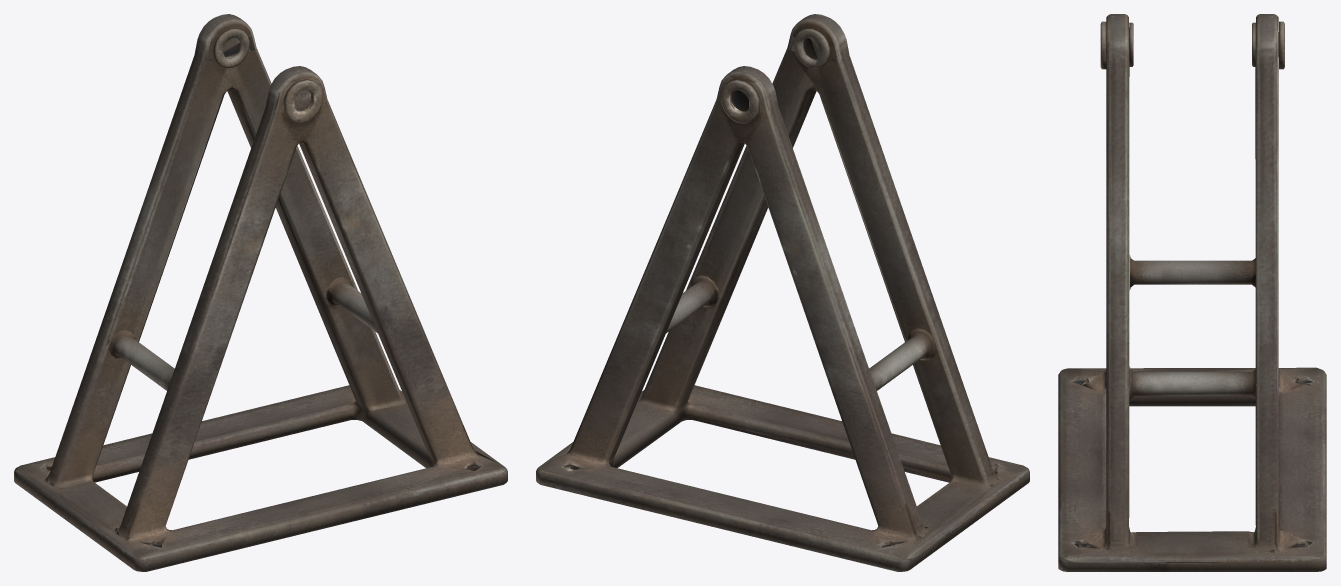
File: pump_base.glb
The picture shows the model from 3 angles, left to right: view 1: azimuth 30°, elevation 25°; view 2: azimuth 150°, elevation 25°; view 3: azimuth 270°, elevation 25°; orthographic projection. The views are drawn at different scales.
Size of the model in its own units: 1.78 by 2 by 1.06.
1 material, 1 textured.
